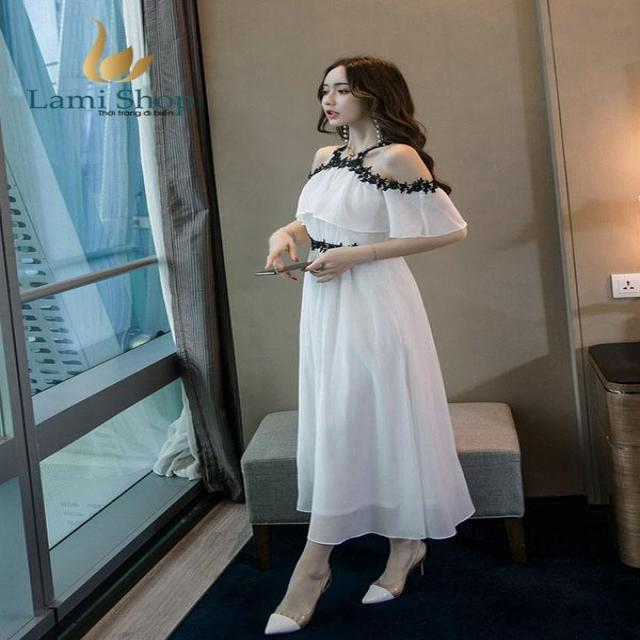clothes: (279, 138, 480, 546)
